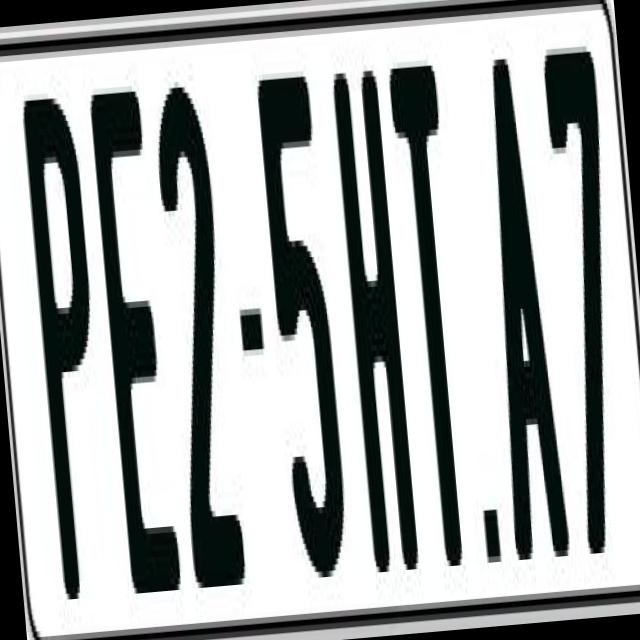2: (148, 68, 242, 572)
5: (252, 70, 348, 574)
7: (538, 34, 632, 554)
A: (472, 51, 575, 590)
E: (84, 80, 178, 606)
H: (328, 59, 418, 572)
P: (22, 90, 122, 594)
T: (386, 52, 484, 590)
